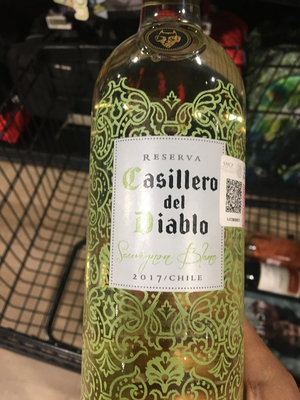casillero del diablo sauvignon blanc: (73, 18, 269, 399)
